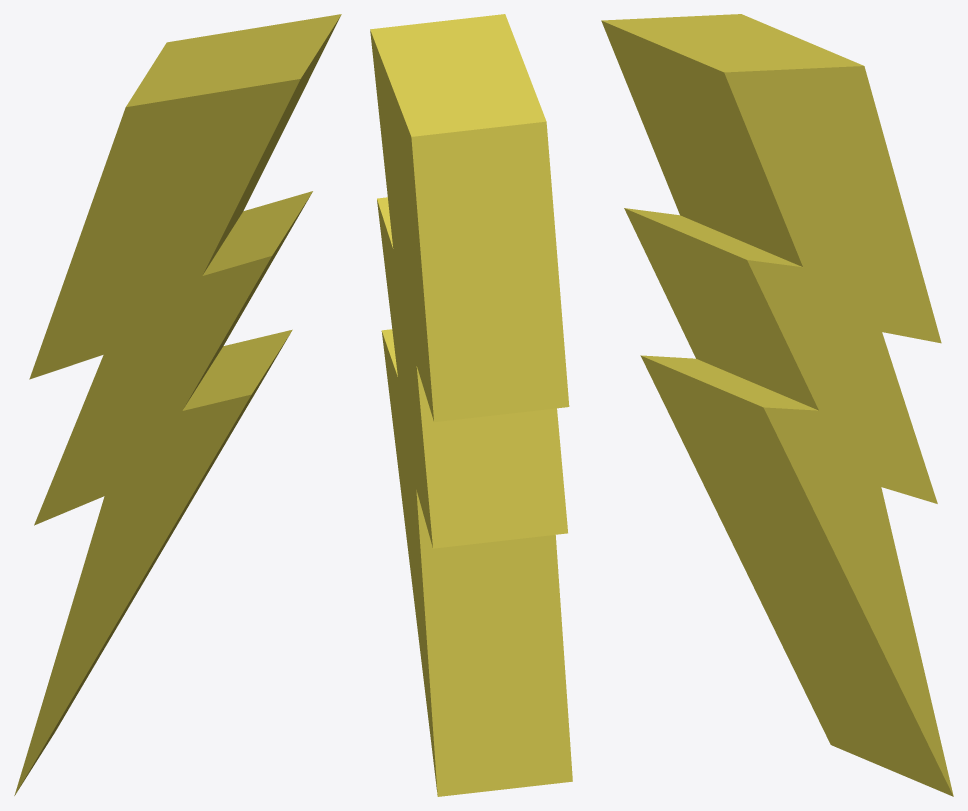
Rendered from Lightning.glb.
3 views of the same model, side by side, from view 1: azimuth 30°, elevation 25°; view 2: azimuth 150°, elevation 25°; view 3: azimuth 270°, elevation 25° (orthographic). The views are drawn at different scales.
Visible parts, largest first — view 1: Mesh_Mesh_head_geo.001_lambert2SG.001; view 2: Mesh_Mesh_head_geo.001_lambert2SG.001; view 3: Mesh_Mesh_head_geo.001_lambert2SG.001.
Boxes of the visible parts, left/top/right/bottom form: Mesh_Mesh_head_geo.001_lambert2SG.001: left=14, top=14, right=341, bottom=795; Mesh_Mesh_head_geo.001_lambert2SG.001: left=370, top=14, right=572, bottom=796; Mesh_Mesh_head_geo.001_lambert2SG.001: left=601, top=14, right=953, bottom=796.
Size of the model in its own units: 20.27 by 52.11 by 20.27.
